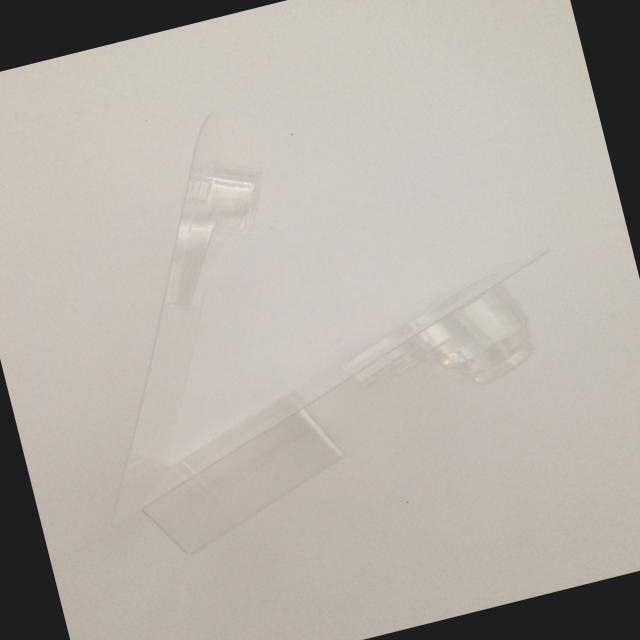Plastic: (13, 0, 640, 596)
